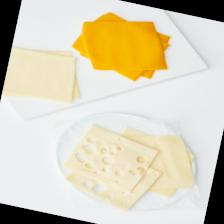cheese: (57, 117, 163, 197), (72, 5, 176, 83), (2, 42, 81, 104)
